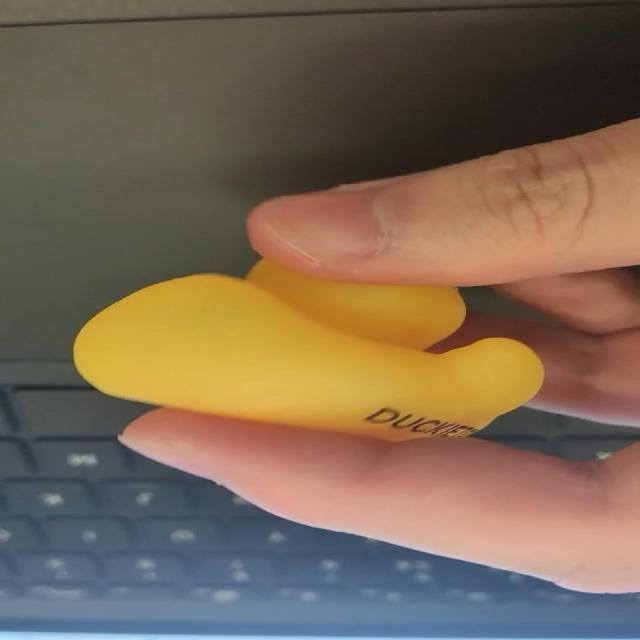rubber-duck: (73, 259, 541, 439)
